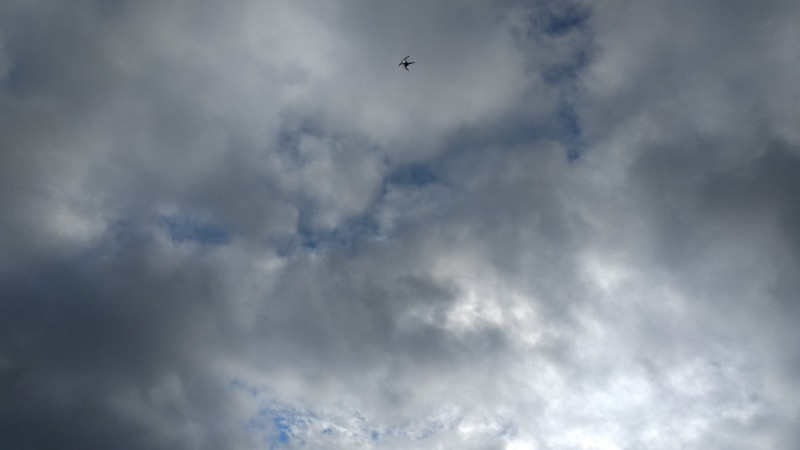drone: (398, 55, 416, 71)
